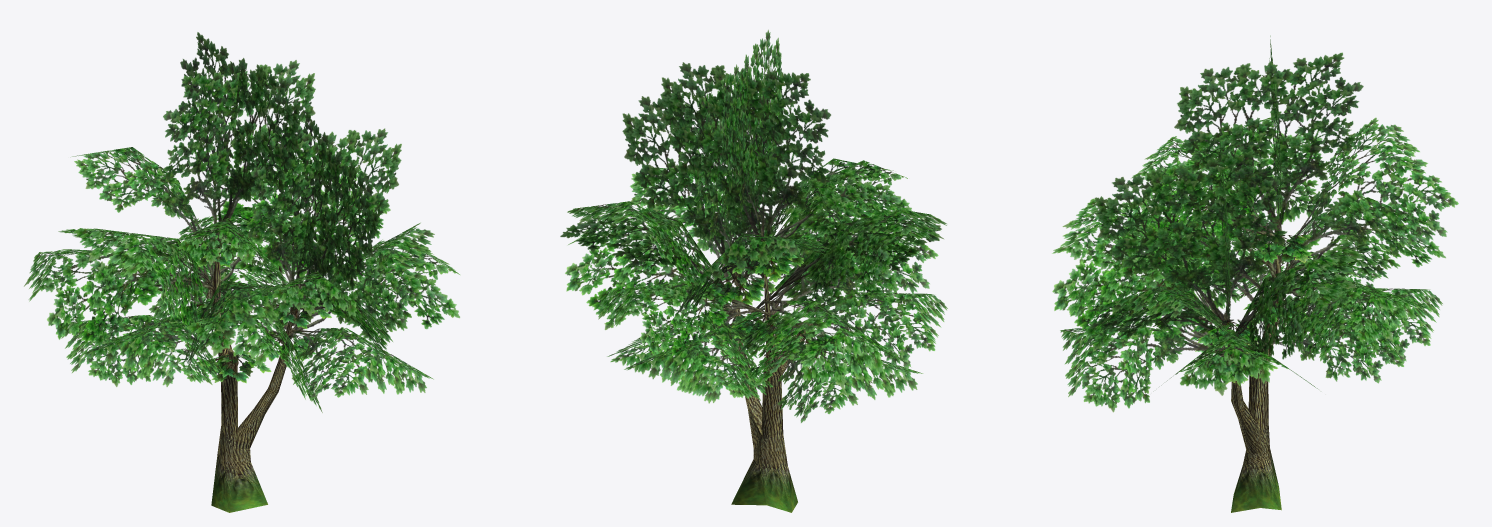
Rendered from tree6_14.glb.
3 views of the same model, side by side, from view 1: azimuth 30°, elevation 25°; view 2: azimuth 150°, elevation 25°; view 3: azimuth 270°, elevation 25° (orthographic). The views are drawn at different scales.
Visible parts, largest first — view 1: tree6_14-col; view 2: tree6_14-col; view 3: tree6_14-col.
Part boxes in pixels (box(x1,y1,x2,y2)): tree6_14-col: box(24, 32, 459, 512); tree6_14-col: box(560, 30, 947, 512); tree6_14-col: box(1052, 35, 1458, 512).
Size of the model in its own units: 10.78 by 11.69 by 10.65.
5 materials, 5 textured.
